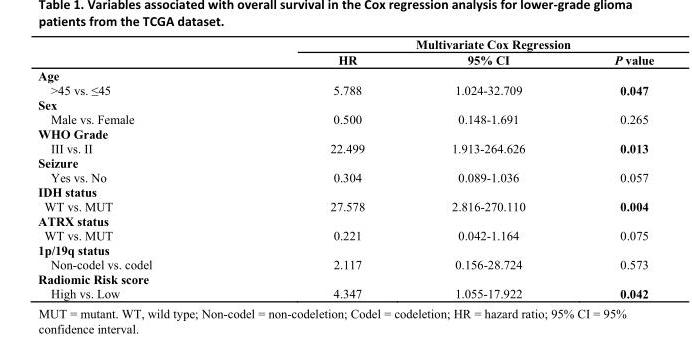table: (37, 36, 653, 300)
table column: (37, 36, 240, 300), (240, 36, 407, 300), (407, 36, 569, 300), (569, 36, 653, 300)
table column header: (37, 36, 653, 67)
table projected row header: (37, 67, 653, 82), (37, 97, 653, 111), (37, 126, 653, 140), (37, 155, 653, 169), (37, 184, 653, 198), (37, 213, 653, 227), (37, 242, 653, 256), (37, 271, 653, 285)
table row: (37, 51, 653, 67), (37, 36, 653, 51), (37, 67, 653, 82), (37, 82, 653, 97), (37, 111, 653, 126), (37, 140, 653, 155), (37, 169, 653, 184), (37, 198, 653, 213), (37, 227, 653, 242), (37, 256, 653, 271), (37, 285, 653, 300), (37, 97, 653, 111), (37, 126, 653, 140), (37, 155, 653, 169), (37, 184, 653, 198), (37, 213, 653, 227), (37, 242, 653, 256), (37, 271, 653, 285)
table spanning cell: (240, 36, 653, 51)
